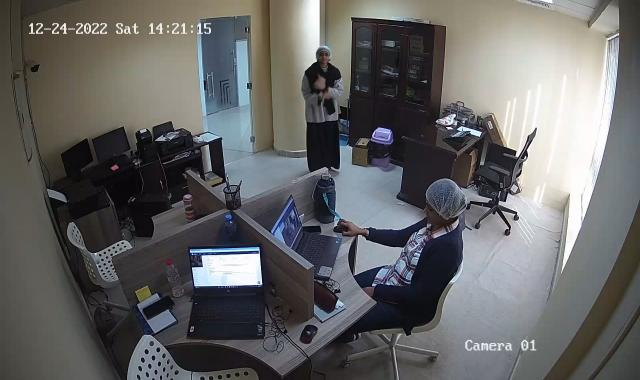hairnet: (424, 178, 468, 228), (314, 43, 331, 66)
